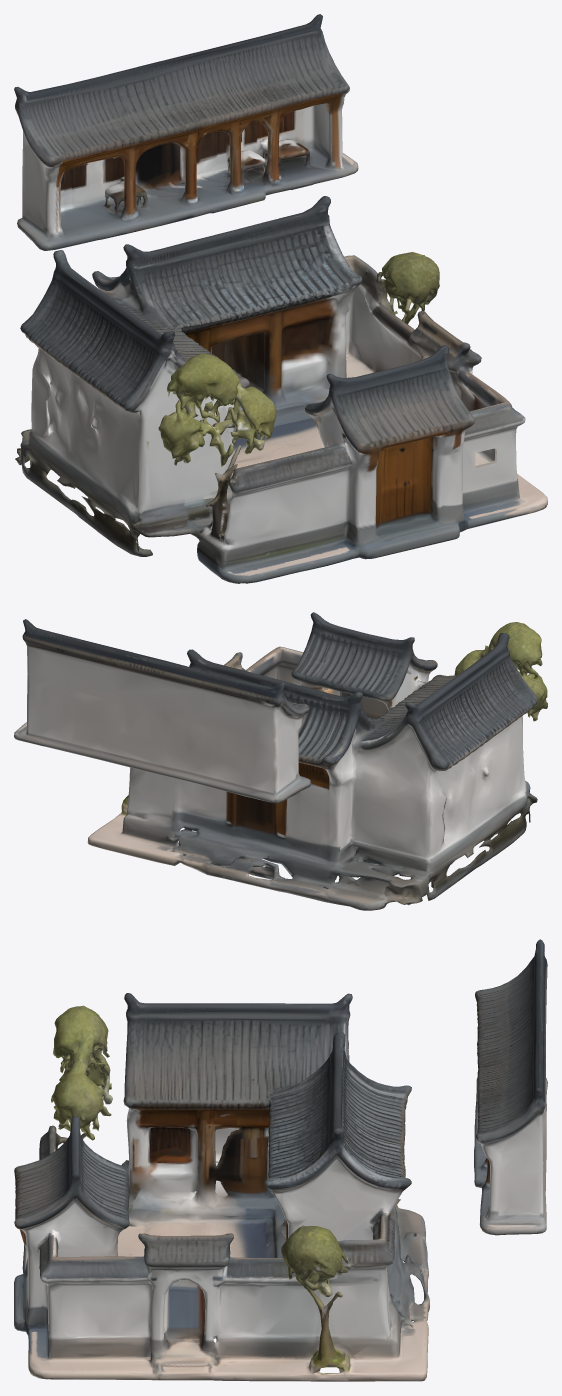
3 views of the same model, one above another, from view 1: azimuth 30°, elevation 25°; view 2: azimuth 150°, elevation 25°; view 3: azimuth 270°, elevation 25° (orthographic). The views are drawn at different scales.
Parts seen in each view (by area): view 1: material.001; view 2: material.001; view 3: material.001.
Boxes of the visible parts, bbox=[...] form: material.001: bbox=[14, 14, 547, 583]; material.001: bbox=[14, 612, 547, 910]; material.001: bbox=[14, 939, 547, 1381].
Bounding box in the file's own units: 0.7413 × 0.5203 × 0.8305.
1 material, 1 textured.
